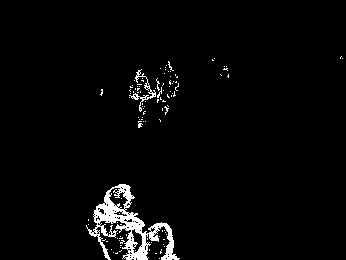person: (86, 180, 145, 260), (154, 59, 178, 125), (129, 69, 152, 124)
